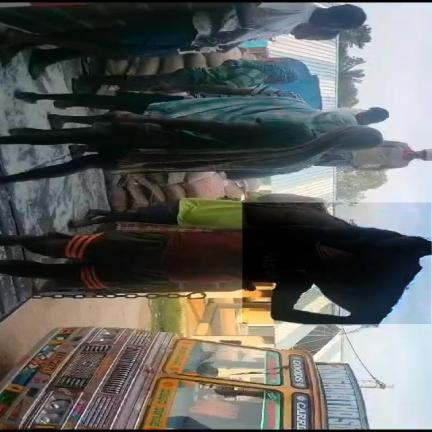Zone-Counting: (0, 202, 431, 323)
